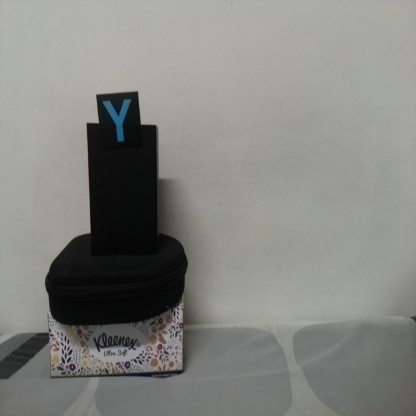id_14: (97, 94, 141, 147)
